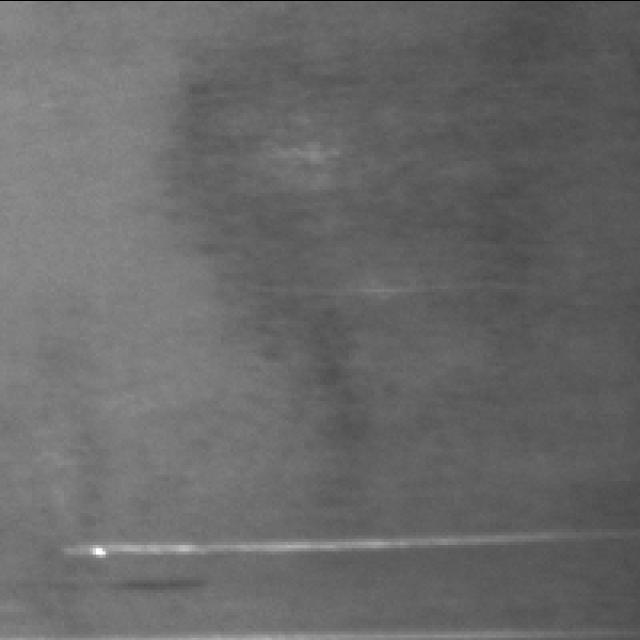scratches: (54, 528, 640, 557)
